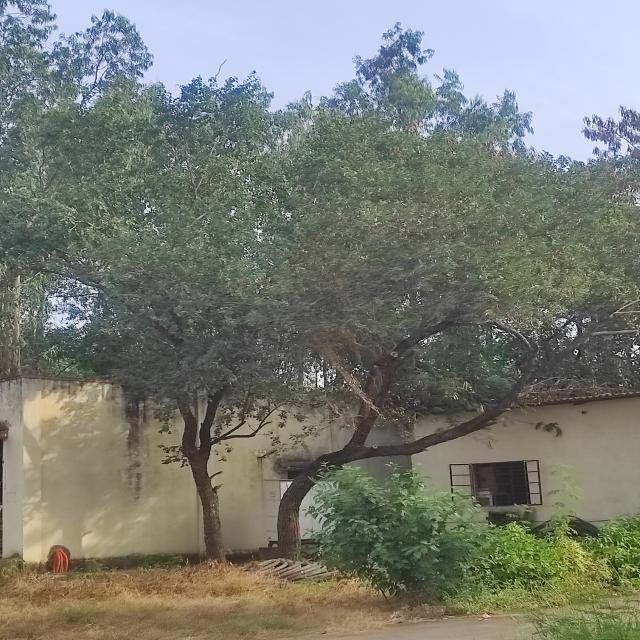Devakanchan tree: (40, 73, 569, 491)
